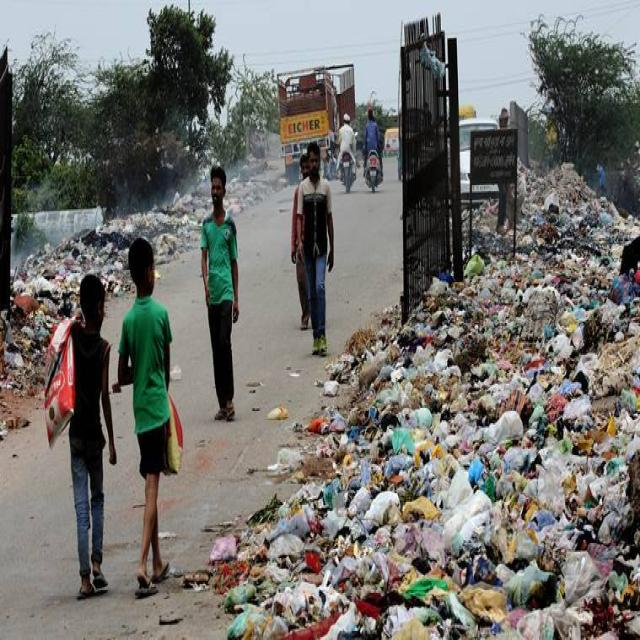garbage: (0, 129, 640, 640)
